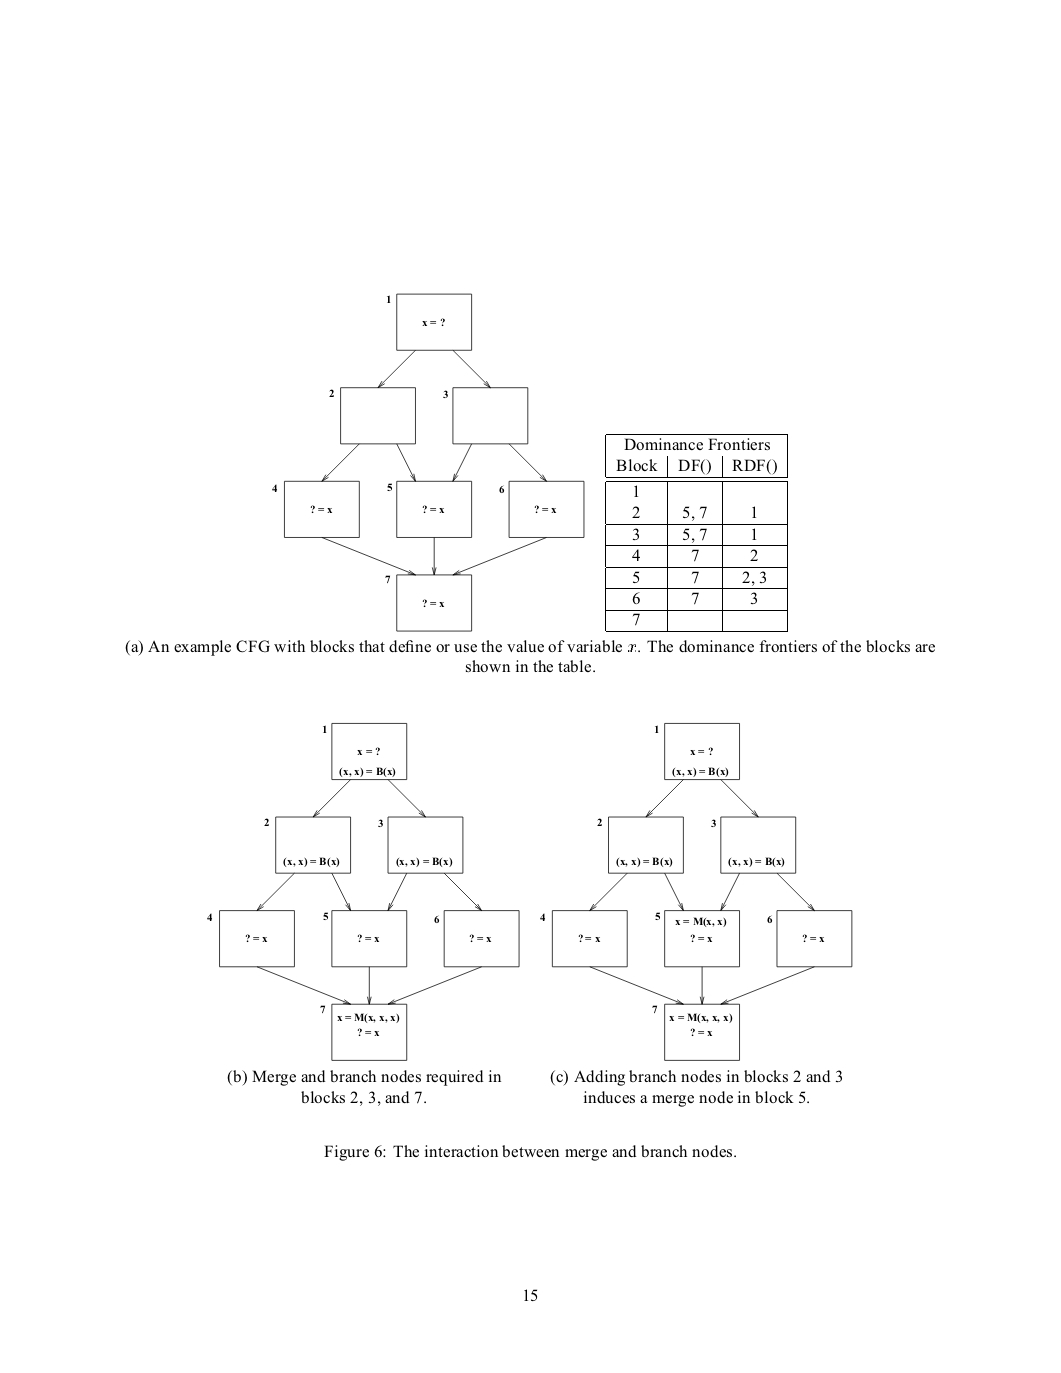Table: (605, 434, 787, 631)
figure: (207, 722, 519, 1061), (272, 293, 584, 631), (541, 722, 851, 1061)
